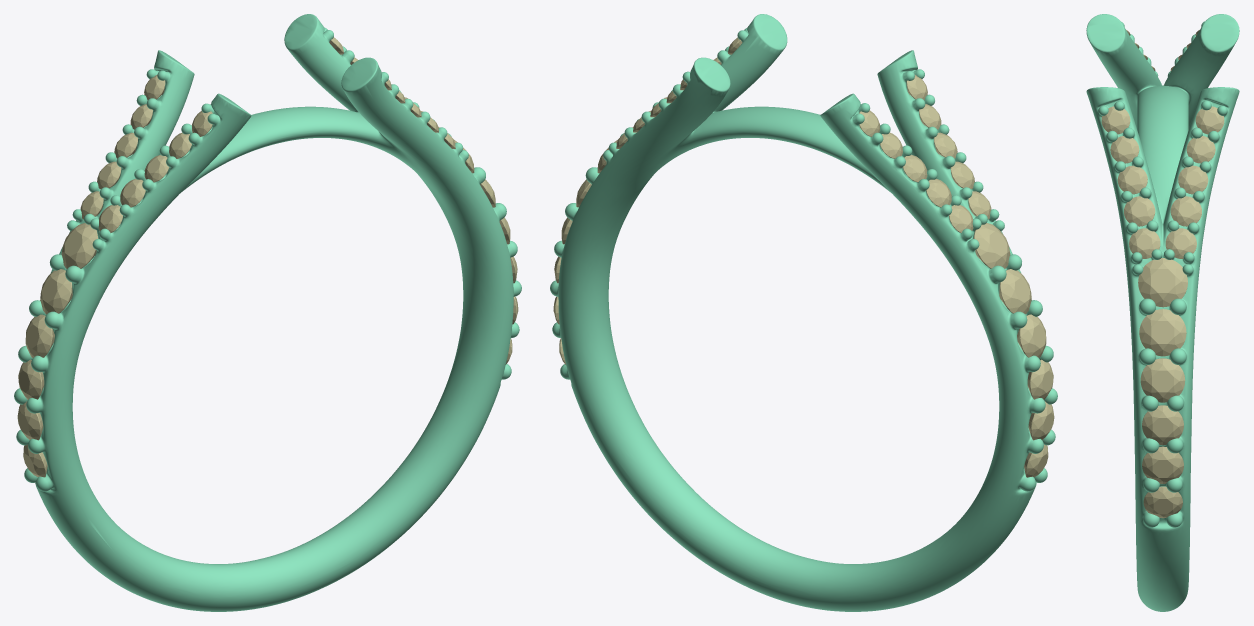
3 renders of one model, left to right at view 1: azimuth 30°, elevation 25°; view 2: azimuth 150°, elevation 25°; view 3: azimuth 270°, elevation 25°, orthographic. The views are drawn at different scales.
Parts seen in each view (by area): view 1: Metal02, Diamond_Gem.029, Diamond_Gem.031, Diamond_Gem.030, Diamond_Gem.027, Diamond_Gem.028; view 2: Metal02, Diamond_Gem.029, Diamond_Gem.031, Diamond_Gem.030, Diamond_Gem.027, Diamond_Gem.028; view 3: Metal02, Diamond_Gem.002, Diamond_Gem, Diamond_Gem.001, Diamond_Gem.004, Diamond_Gem.003, Diamond_Gem.005, Diamond_Gem.012, Diamond_Gem.009, Diamond_Gem.015, Diamond_Gem.006, Diamond_Gem.010 (+5 smaller).
Part boxes in pixels (bbox=[...]): Metal02: bbox=[14, 14, 521, 611]; Diamond_Gem.029: bbox=[61, 223, 98, 268]; Diamond_Gem.031: bbox=[40, 269, 72, 314]; Diamond_Gem.030: bbox=[25, 314, 54, 357]; Diamond_Gem.027: bbox=[18, 359, 44, 399]; Diamond_Gem.028: bbox=[17, 401, 43, 440]; Metal02: bbox=[550, 14, 1057, 611]; Diamond_Gem.029: bbox=[973, 223, 1010, 268]; Diamond_Gem.031: bbox=[999, 269, 1031, 314]; Diamond_Gem.030: bbox=[1017, 314, 1046, 357]; Diamond_Gem.027: bbox=[1027, 359, 1053, 399]; Diamond_Gem.028: bbox=[1028, 401, 1054, 440]; Metal02: bbox=[1086, 14, 1239, 611]; Diamond_Gem.002: bbox=[1138, 258, 1187, 307]; Diamond_Gem: bbox=[1139, 309, 1186, 356]; Diamond_Gem.001: bbox=[1140, 358, 1185, 402]; Diamond_Gem.004: bbox=[1142, 405, 1183, 445]; Diamond_Gem.003: bbox=[1142, 446, 1183, 483]; Diamond_Gem.005: bbox=[1143, 486, 1182, 518]; Diamond_Gem.012: bbox=[1124, 196, 1155, 226]; Diamond_Gem.009: bbox=[1170, 196, 1201, 226]; Diamond_Gem.015: bbox=[1129, 228, 1160, 258]; Diamond_Gem.006: bbox=[1165, 228, 1196, 258]; Diamond_Gem.010: bbox=[1178, 165, 1208, 194].
Size of the model in its own units: 21.29 by 22.57 by 5.84.
